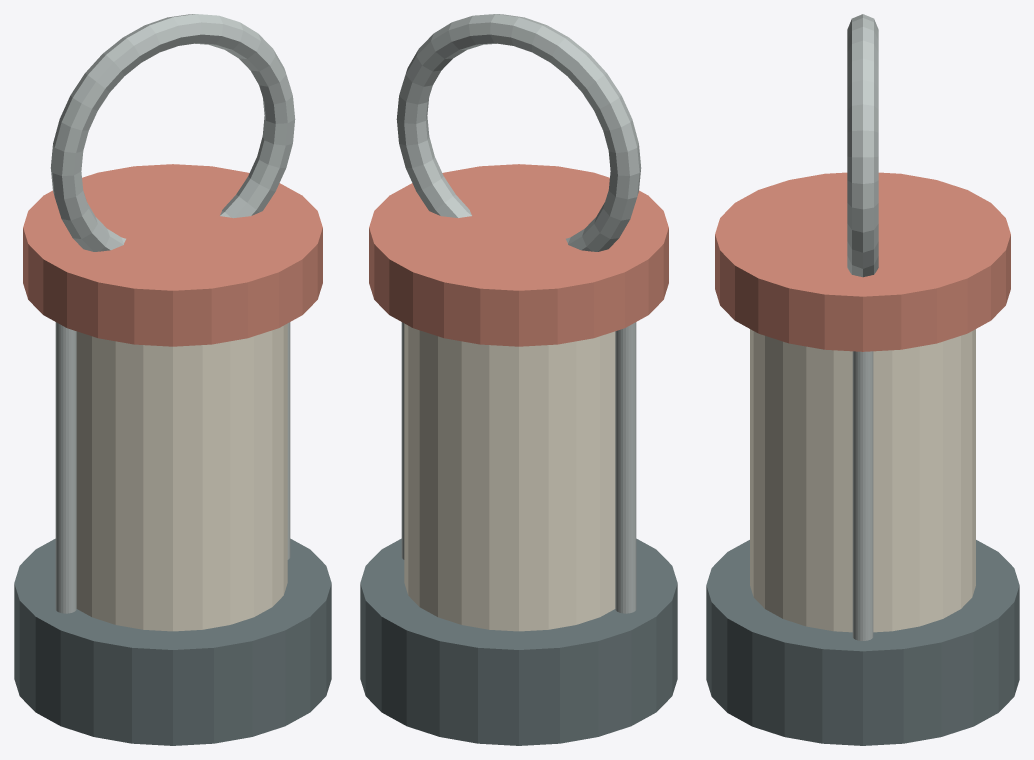
3 views of the same model, side by side, from view 1: azimuth 30°, elevation 25°; view 2: azimuth 150°, elevation 25°; view 3: azimuth 270°, elevation 25° (orthographic).
Parts seen in each view (by area): view 1: light diffuser, cap, base, carry handle, cage, cage.001; view 2: light diffuser, cap, base, carry handle, cage, cage.001; view 3: light diffuser, cap, base, carry handle, cage.001.
Part boxes in pixels (x1,y1,x2,y2): light diffuser: (76, 323, 287, 631); cap: (23, 164, 322, 346); base: (14, 538, 331, 745); carry handle: (50, 14, 295, 251); cage: (55, 322, 76, 613); cage.001: (287, 322, 290, 559); light diffuser: (404, 323, 615, 631); cap: (369, 164, 668, 346); base: (360, 538, 677, 745); carry handle: (396, 14, 641, 251); cage: (615, 322, 636, 613); cage.001: (401, 322, 404, 559); light diffuser: (750, 329, 975, 632); cap: (715, 172, 1010, 351); base: (706, 540, 1019, 745); carry handle: (847, 14, 878, 277); cage.001: (852, 351, 873, 640).
Bounding box in the file's own units: 0.18 × 0.414 × 0.18.
